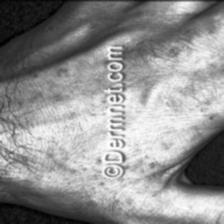Toxin: (162, 45, 184, 60), (50, 86, 72, 100)
